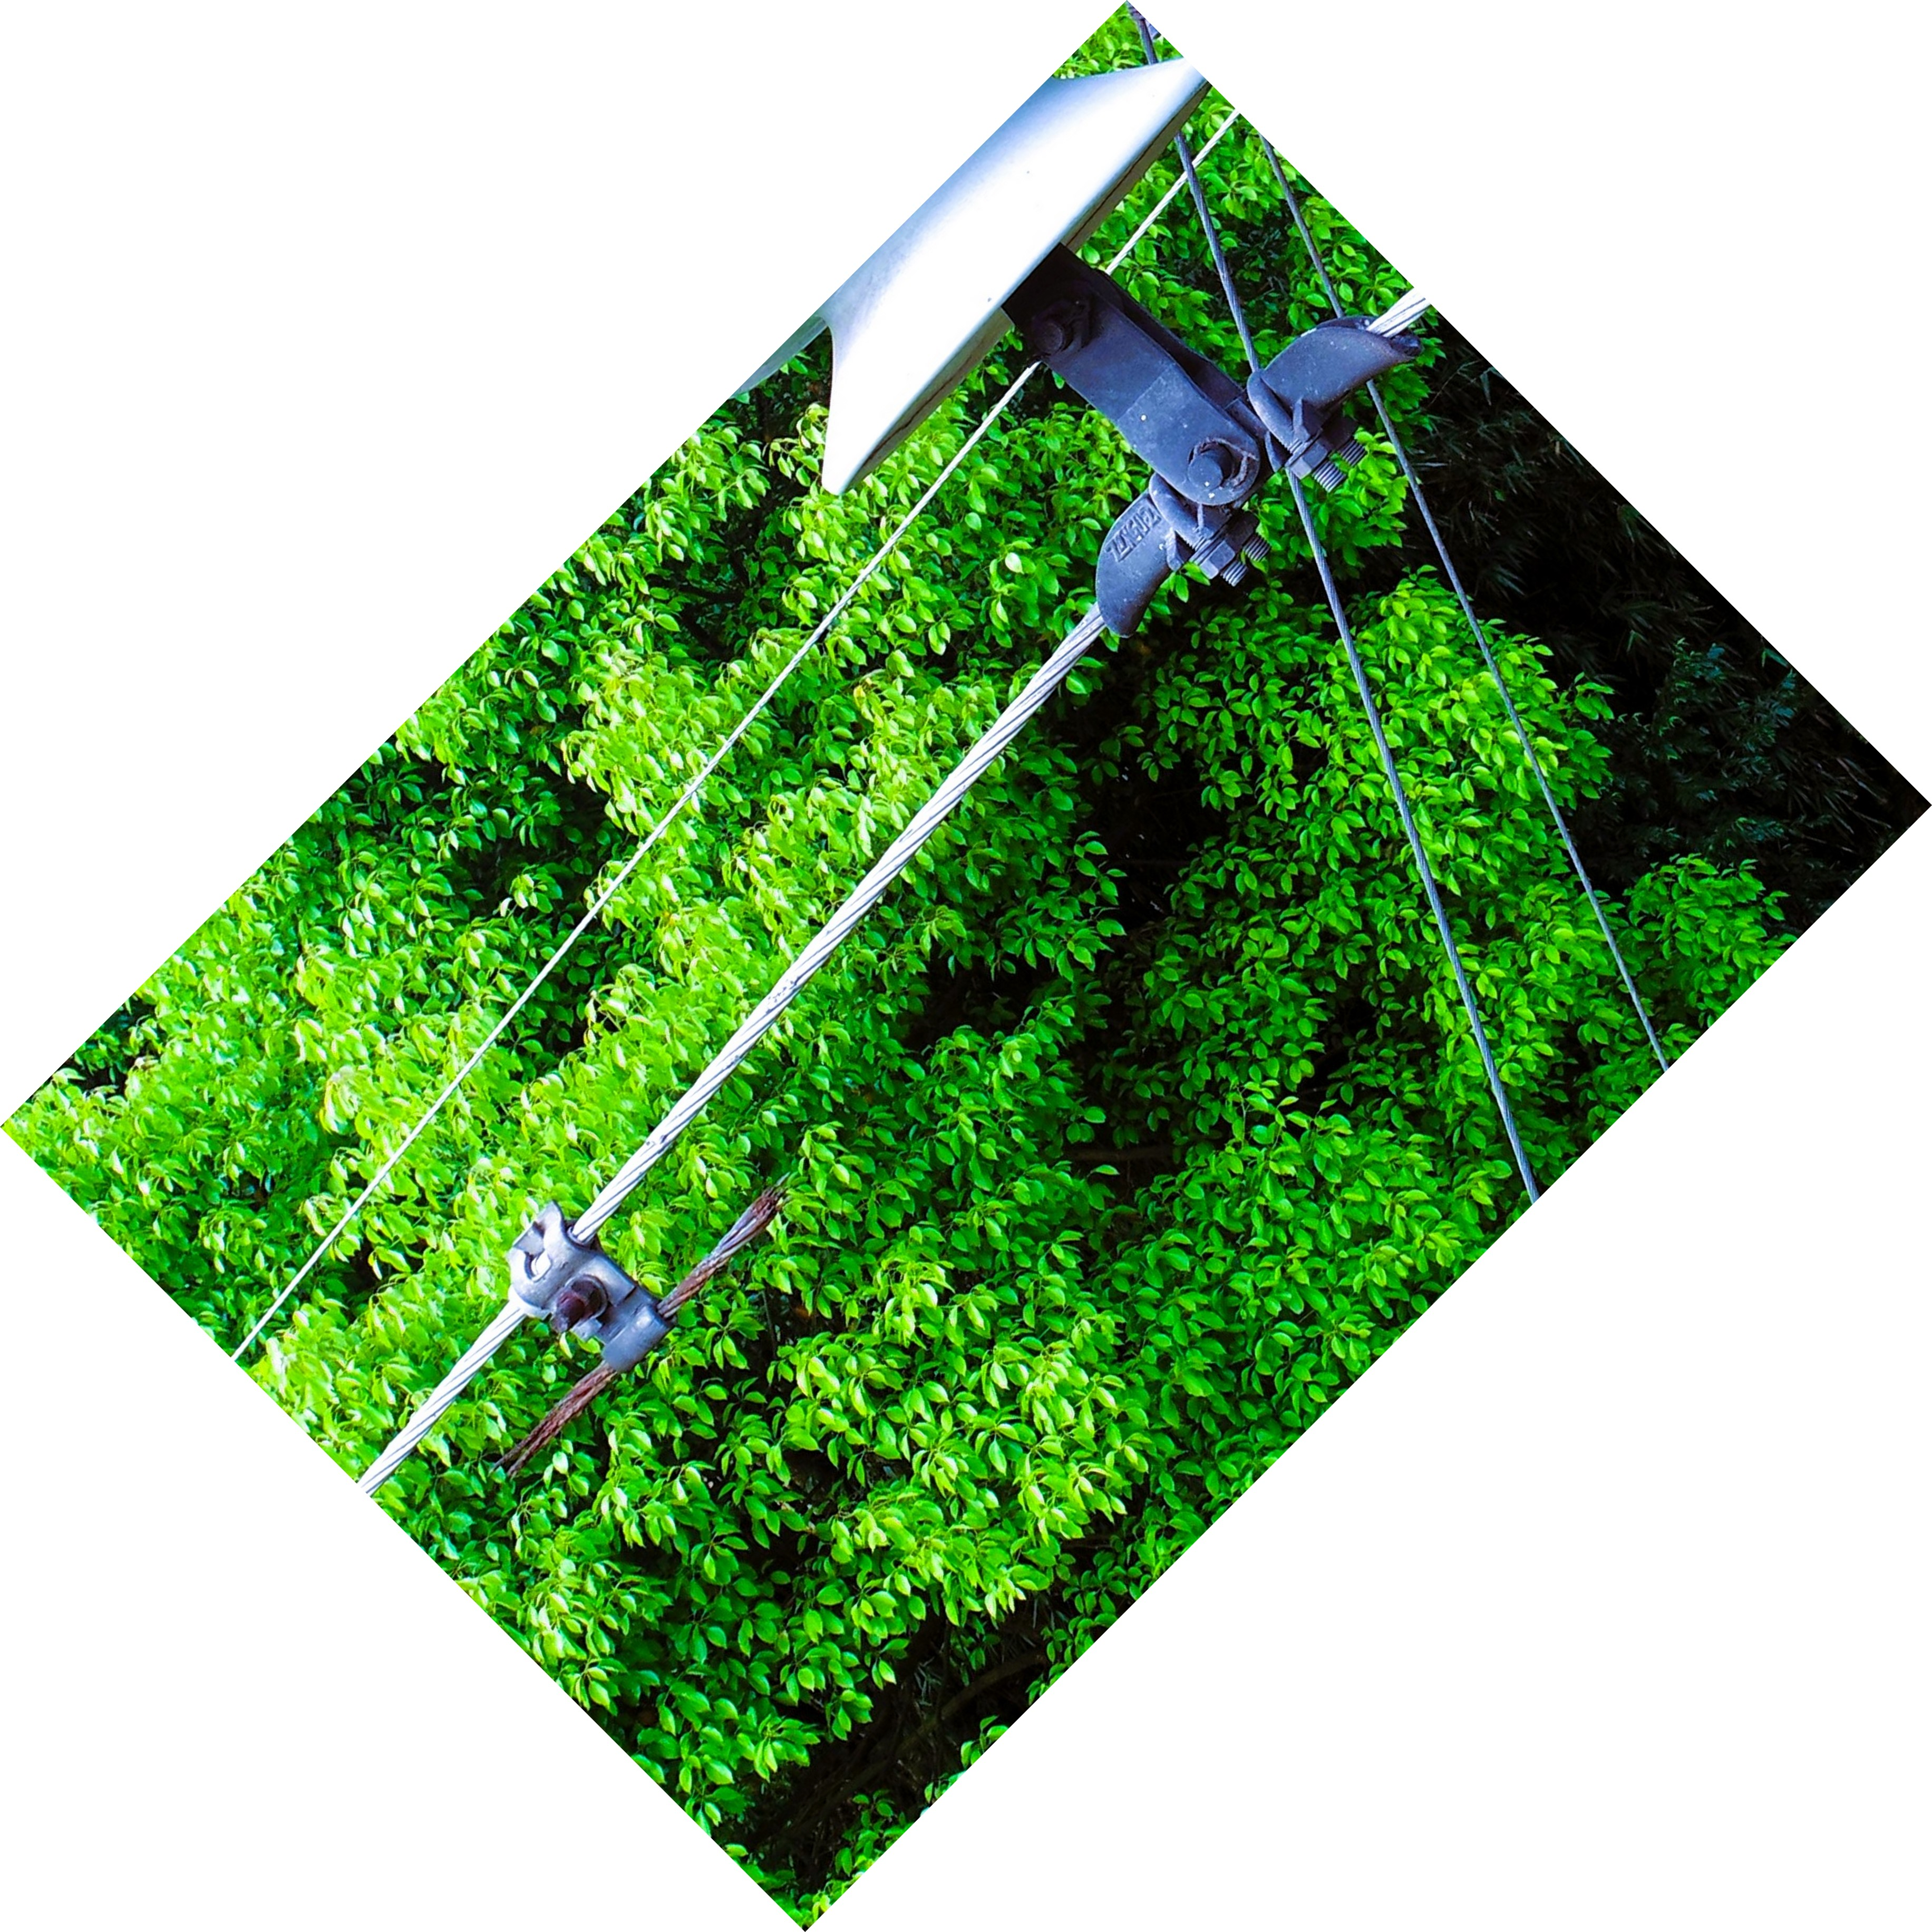Damage of shockproof hammer: (458, 1146, 793, 1497)
